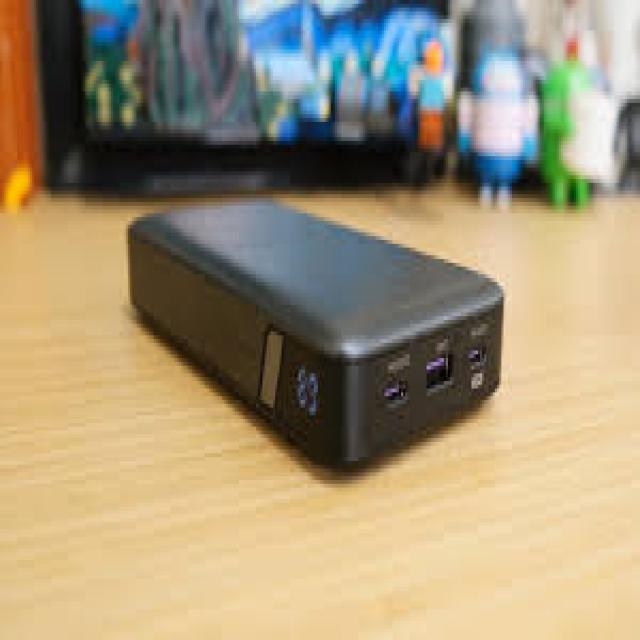portable-charger: (127, 194, 506, 478)
